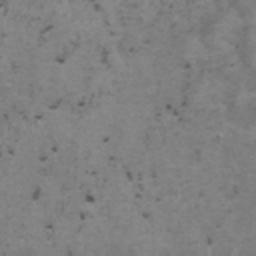Oxide scale of temperature system: (31, 0, 251, 230), (0, 0, 128, 122), (225, 186, 239, 199), (38, 152, 48, 162)
